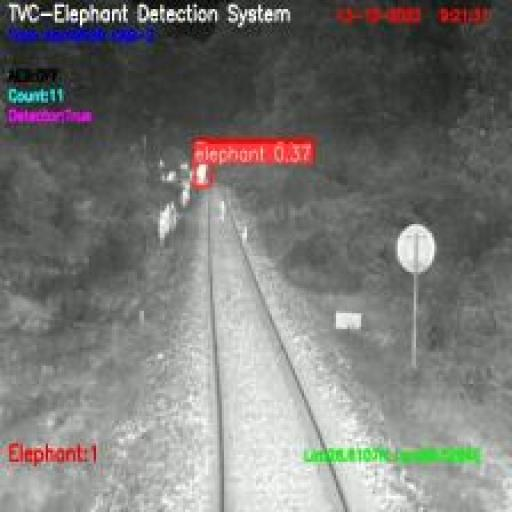Elephant: (194, 162, 209, 186)
